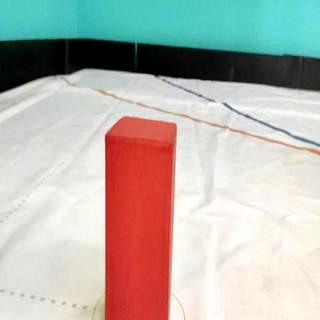redbox: (106, 114, 176, 320)
